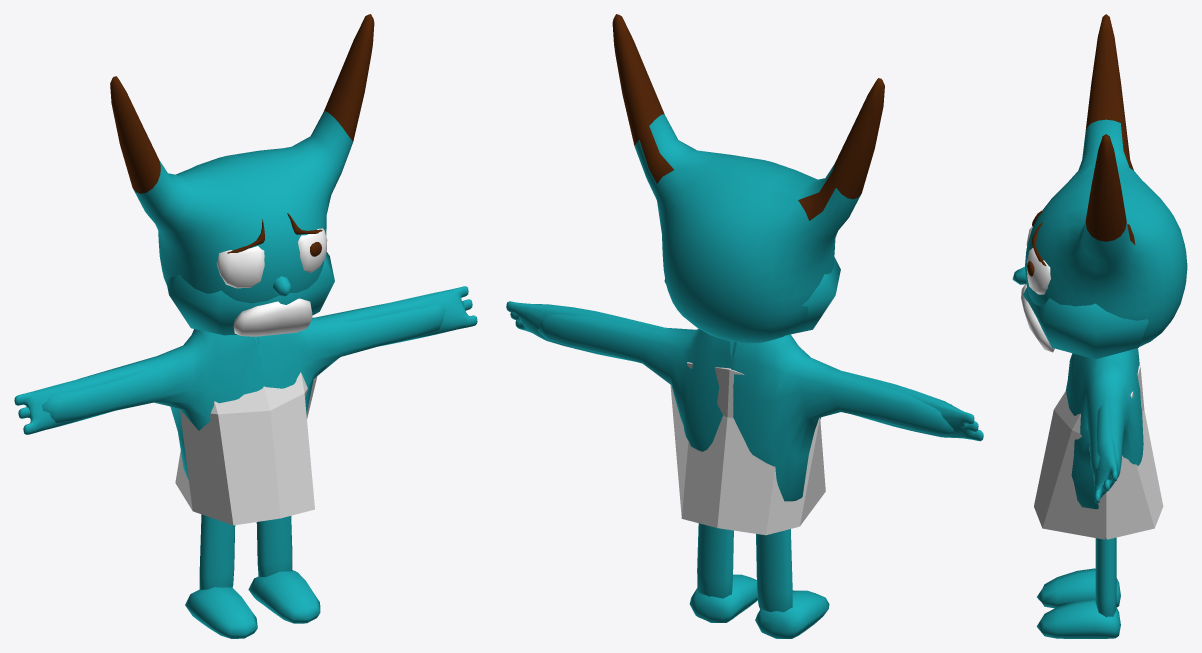
File: CGVCharacter2.glb
3 renders of one model, left to right at view 1: azimuth 30°, elevation 25°; view 2: azimuth 150°, elevation 25°; view 3: azimuth 270°, elevation 25°, orthographic. The views are drawn at different scales.
Visible parts, largest first — view 1: body, torso; view 2: body, torso; view 3: body, torso.
Part boxes in pixels (<box>): body: <box>14,14,477,638</box>; torso: <box>175,372,317,525</box>; body: <box>506,14,983,638</box>; torso: <box>670,362,825,535</box>; body: <box>1012,14,1187,638</box>; torso: <box>1034,365,1163,539</box>.
Bounding box in the file's own units: 33.81 × 40.16 × 11.68.
Materials: 1 (1 with a texture image).
